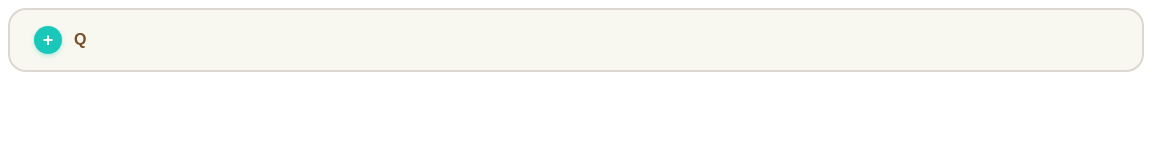
Test: Collapse › 点击切换展开状态
Click the button at (48, 40), box [10,10,1142,70]
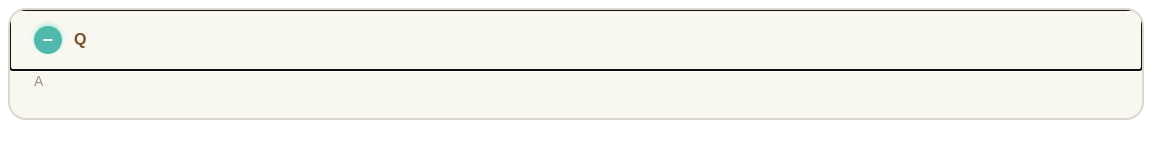
Check: the button is expanded
Click the button at (48, 40), box [10,10,1142,70]
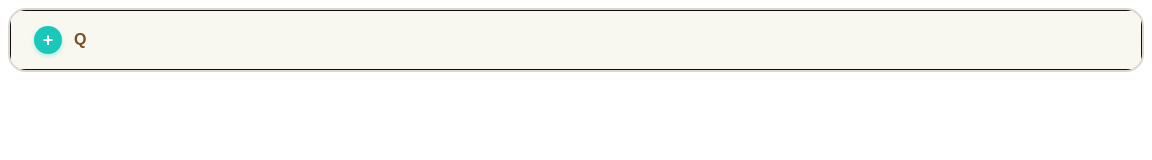
Check: the button is collapsed, box [10,10,1142,70]
